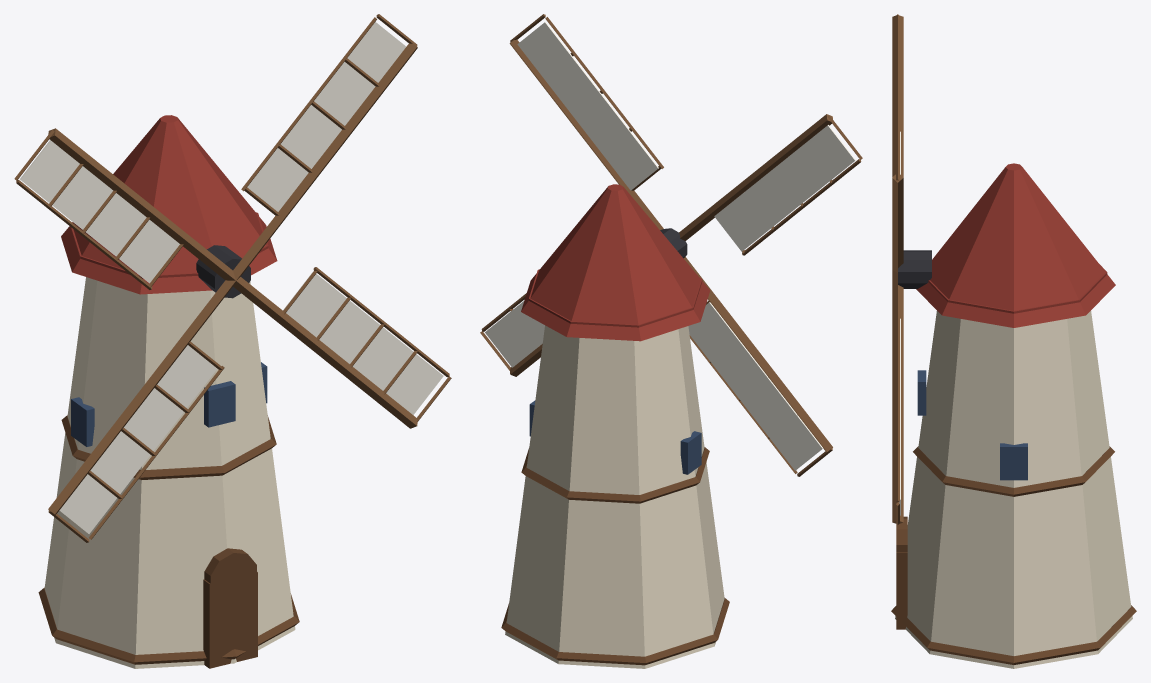
File: Windmill.fbx
3 renders of one model, left to right at view 1: azimuth 30°, elevation 25°; view 2: azimuth 150°, elevation 25°; view 3: azimuth 270°, elevation 25°, orthographic. The views are drawn at different scales.
Parts seen in each view (by area): view 1: Tower, Sails, SailFrame, Cap, Door, Trim, Windows, Hub; view 2: Tower, Sails, Cap, SailFrame, Trim, Windows; view 3: Tower, Cap, SailFrame, Trim, Windows, Door, Hub.
Boxes of the visible parts, <box> form: Tower: <box>44,277,295,668</box>; Sails: <box>20,22,443,533</box>; SailFrame: <box>14,14,451,542</box>; Cap: <box>61,115,277,294</box>; Door: <box>203,548,257,668</box>; Trim: <box>38,415,299,664</box>; Windows: <box>71,362,267,446</box>; Hub: <box>196,245,250,298</box>; Tower: <box>505,325,724,668</box>; Sails: <box>485,22,855,470</box>; Cap: <box>521,184,710,341</box>; SailFrame: <box>480,14,862,476</box>; Trim: <box>501,447,729,665</box>; Windows: <box>529,400,701,474</box>; Tower: <box>895,311,1132,668</box>; Cap: <box>916,163,1115,327</box>; SailFrame: <box>892,14,903,524</box>; Trim: <box>891,446,1136,664</box>; Windows: <box>917,370,1027,480</box>; Door: <box>896,516,907,629</box>; Hub: <box>898,250,931,288</box>.
Size of the model in its own units: 16.22 by 21.71 by 8.69.
